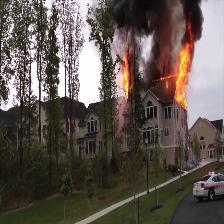fire: (176, 47, 190, 109)
smoke: (122, 3, 208, 34), (148, 38, 173, 79)
